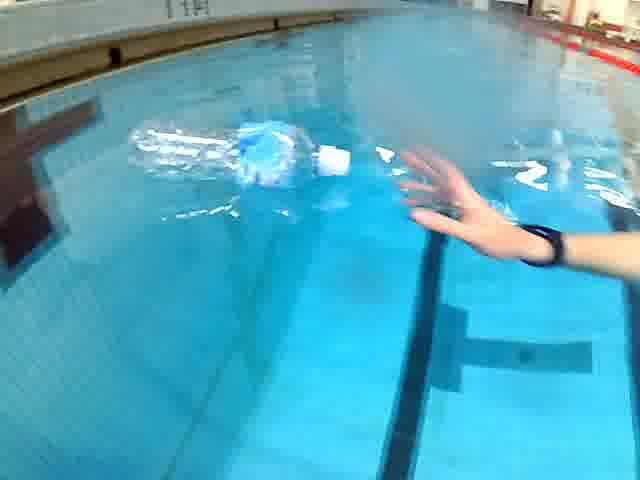Bottle: (127, 115, 354, 188)
